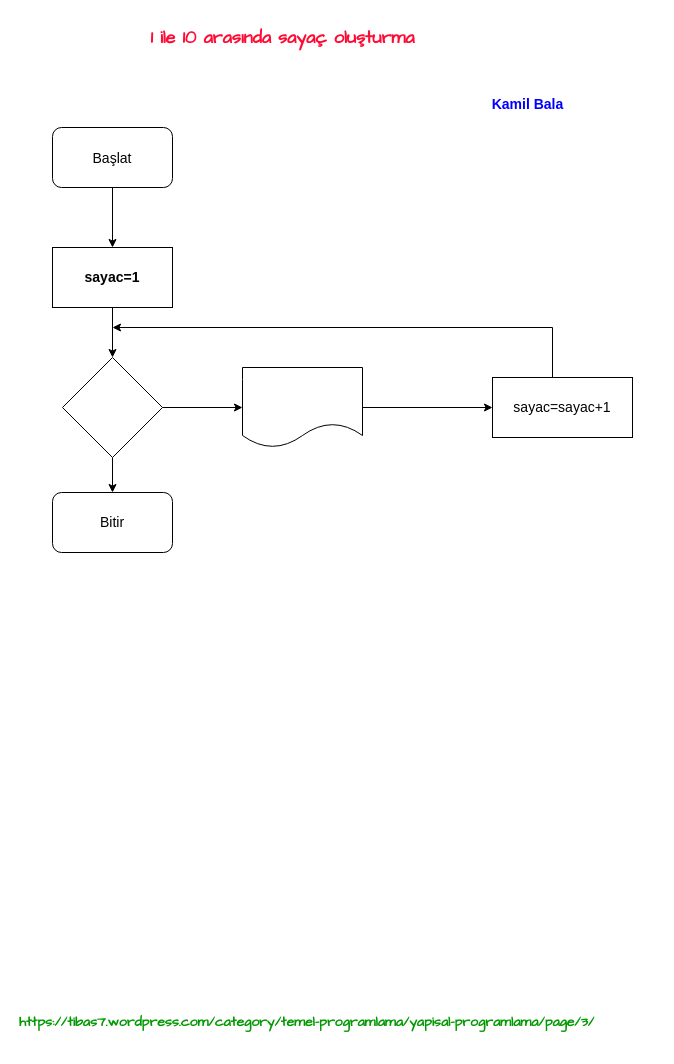
This 674x1064 diagram has some shape labels left out. Each missing label, with the box of its shape:
sayac<=10: (62, 356, 162, 458)
Yaz,sayac: (242, 366, 362, 448)
